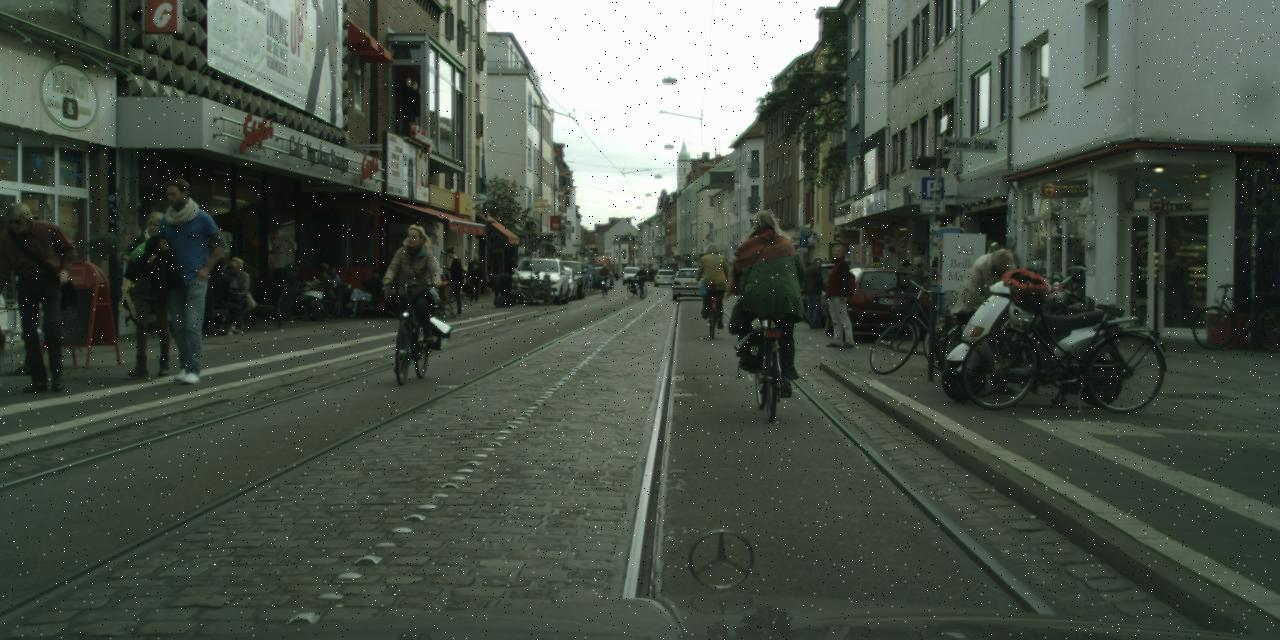ped: (141, 179, 224, 382), (0, 200, 74, 392), (734, 208, 802, 376), (120, 210, 188, 376), (964, 248, 1021, 390), (390, 224, 440, 350), (818, 245, 860, 348), (696, 242, 729, 322), (440, 246, 470, 318), (801, 257, 830, 328), (905, 256, 931, 322), (894, 259, 918, 320), (815, 258, 839, 318), (836, 258, 860, 314), (796, 260, 817, 311), (464, 254, 484, 304), (635, 264, 647, 297), (599, 263, 609, 289)
